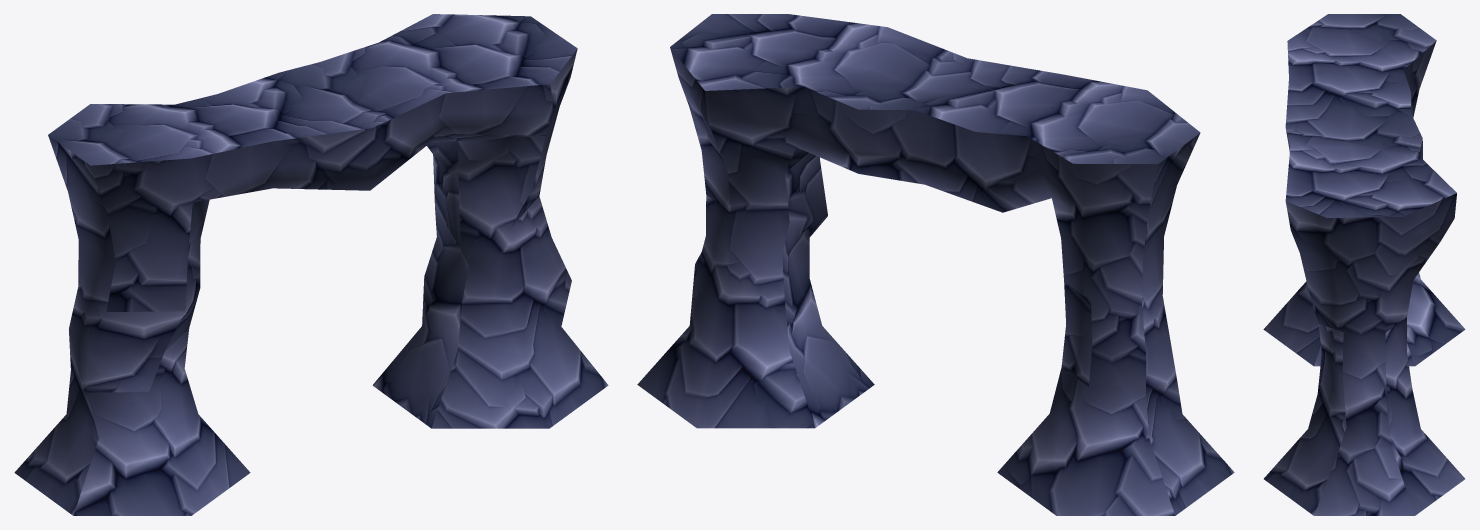
File: Pillar.fbx
3 views of the same model, side by side, from view 1: azimuth 30°, elevation 25°; view 2: azimuth 150°, elevation 25°; view 3: azimuth 270°, elevation 25° (orthographic). The views are drawn at different scales.
Parts seen in each view (by area): view 1: Plane.016; view 2: Plane.016; view 3: Plane.016.
Boxes of the visible parts, x1,y1,x2,y2 form: Plane.016: [14, 14, 608, 515]; Plane.016: [637, 14, 1234, 515]; Plane.016: [1263, 14, 1465, 515].
Bounding box in the file's own units: 1.66 × 1.02 × 0.6337.
